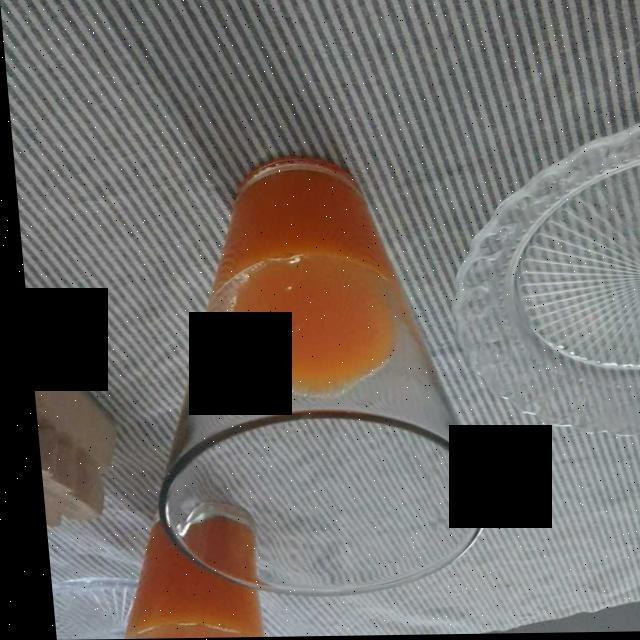drink: (212, 166, 388, 389)
